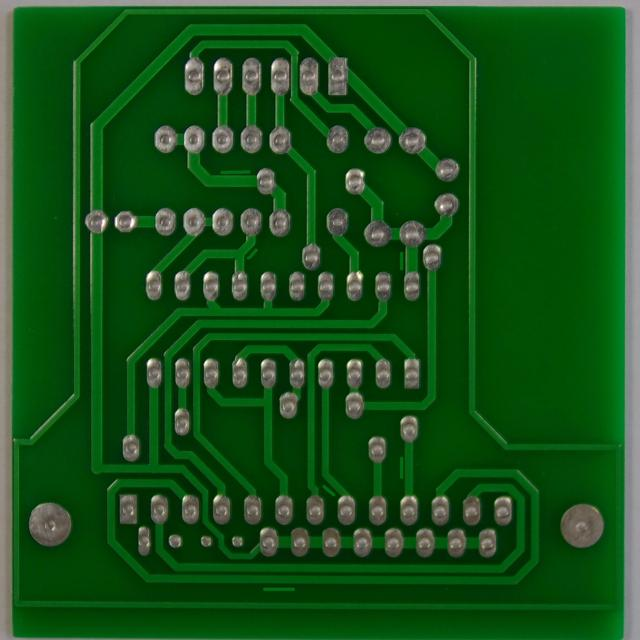spurious_copper: (259, 582, 299, 599), (393, 453, 410, 482), (217, 165, 252, 179), (315, 480, 339, 500), (394, 246, 408, 272), (243, 245, 261, 263)
